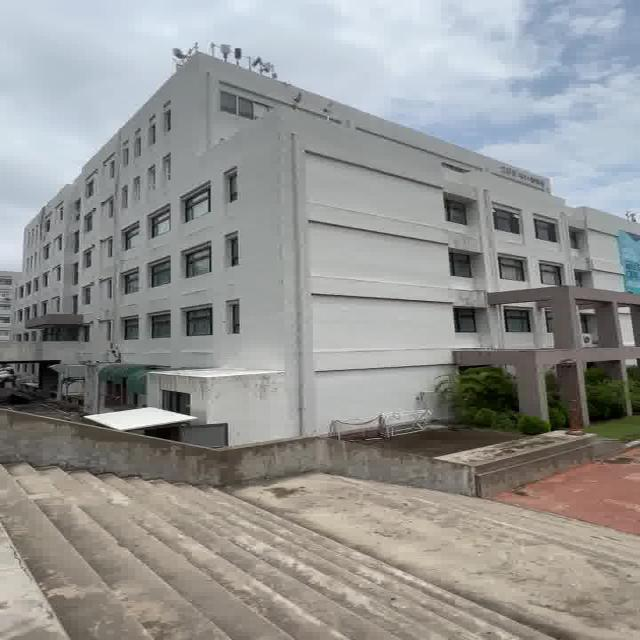building: (11, 37, 636, 413)
